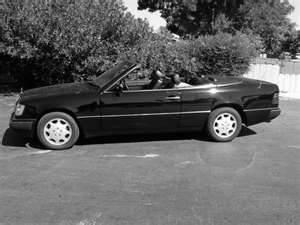car: (9, 60, 281, 150)
